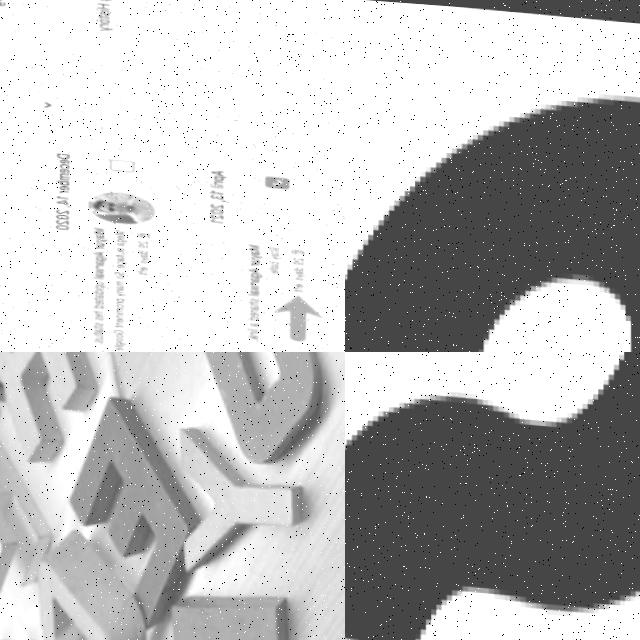0: (54, 208, 68, 214), (52, 219, 66, 224), (207, 201, 221, 206)
1: (208, 182, 222, 186), (53, 190, 67, 193), (208, 211, 222, 214)
2: (54, 203, 68, 209), (208, 195, 222, 201), (207, 206, 222, 211), (53, 214, 67, 219), (135, 234, 147, 238), (290, 248, 302, 252)
3: (208, 186, 222, 192)
4: (53, 193, 67, 199)
9: (135, 237, 147, 242), (291, 251, 301, 256)
C: (345, 56, 640, 352), (26, 521, 142, 640)
E: (77, 378, 186, 623)
J: (176, 352, 329, 459)
K: (167, 565, 282, 640)
R: (0, 352, 95, 469)
S: (345, 352, 640, 640)
Y: (174, 415, 309, 579)
